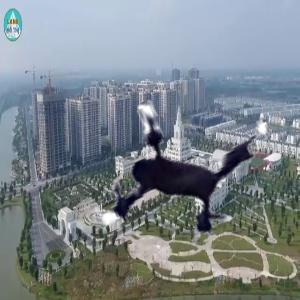drone: (62, 47, 290, 275)
